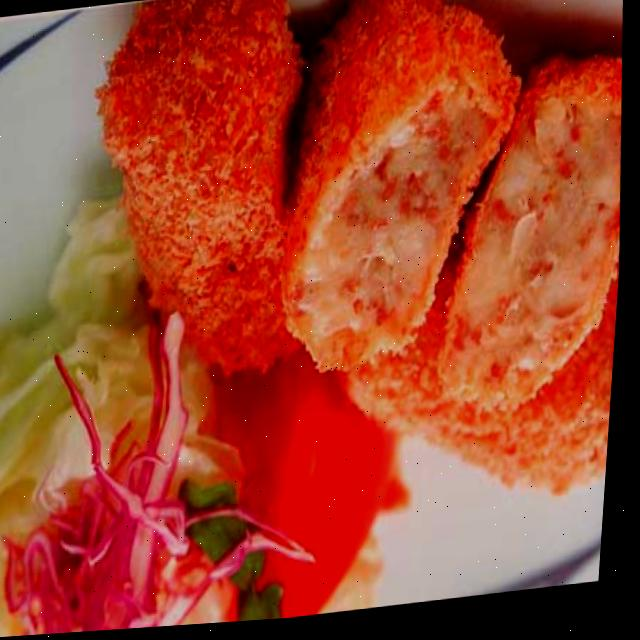炸货点心: (70, 0, 640, 558)
